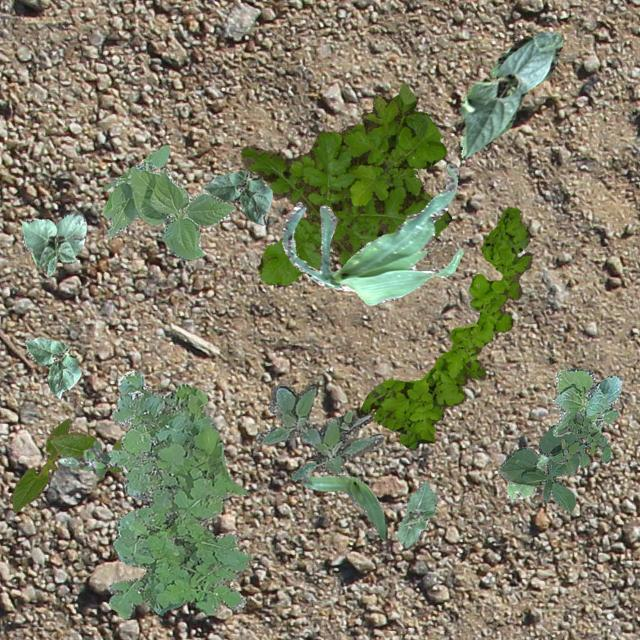crop: (280, 162, 462, 304), (100, 143, 234, 260), (458, 31, 562, 158), (498, 424, 582, 512), (8, 418, 70, 512), (299, 474, 386, 538), (552, 366, 620, 436), (20, 210, 86, 276), (202, 168, 270, 224), (24, 337, 80, 398), (50, 432, 122, 472), (396, 479, 436, 546), (506, 452, 548, 502)
weed: (240, 82, 450, 284), (360, 205, 530, 448), (106, 370, 250, 618), (255, 380, 382, 480), (550, 410, 610, 474), (58, 440, 110, 474)
